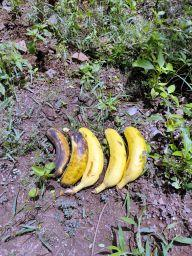banana: (63, 125, 106, 196), (90, 126, 129, 197), (115, 124, 151, 191), (55, 126, 90, 189), (45, 126, 71, 179)
